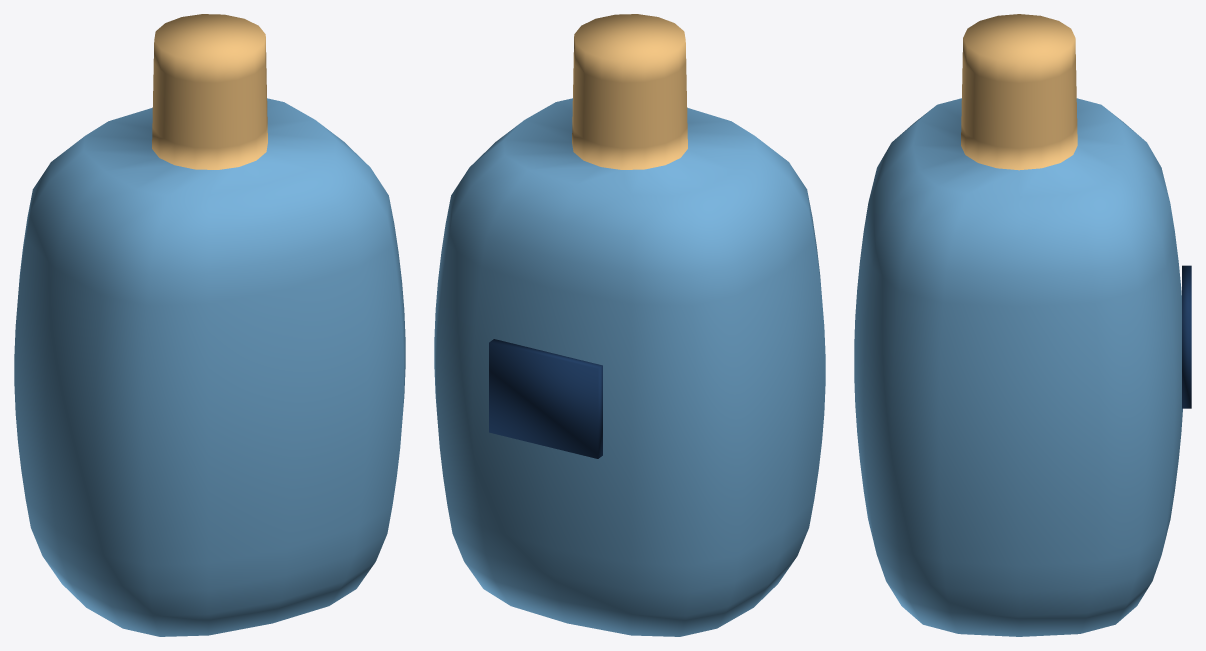
The model's file is torso.glb.
The picture shows the model from 3 angles, left to right: view 1: azimuth 30°, elevation 25°; view 2: azimuth 150°, elevation 25°; view 3: azimuth 270°, elevation 25°; orthographic projection.
Parts seen in each view (by area): view 1: torso; view 2: torso; view 3: torso.
Part boxes in pixels (box(x1,y1,x2,y2)): torso: box(14, 14, 405, 636); torso: box(434, 14, 825, 636); torso: box(854, 14, 1191, 636).
Size of the model in its own units: 0.5696 by 0.9 by 0.5108.
